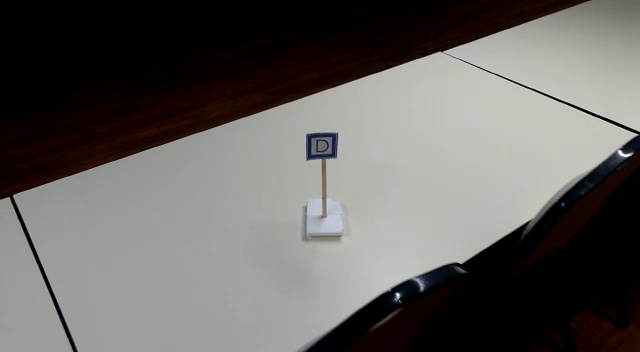durak: (306, 132, 338, 159)
